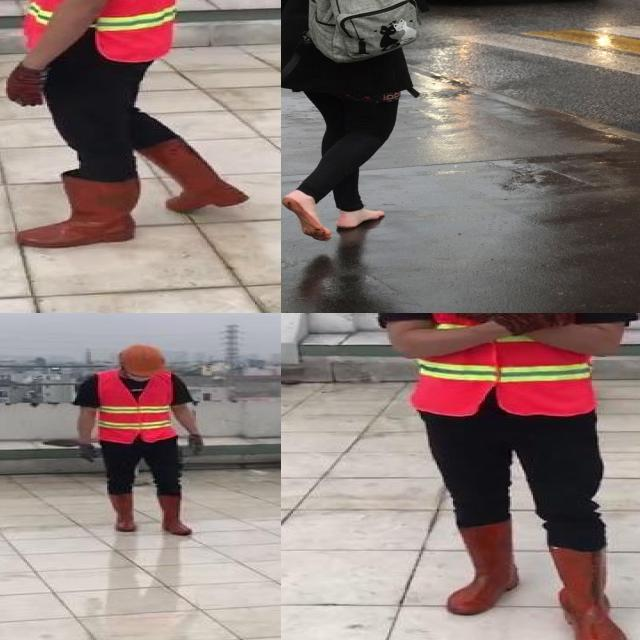Barefoots: (282, 190, 331, 241), (336, 209, 384, 229)
boots: (13, 175, 138, 249), (136, 141, 250, 210), (547, 546, 630, 640), (444, 522, 521, 618), (155, 492, 191, 535), (107, 491, 137, 534)
hand_glove: (8, 66, 49, 106), (506, 313, 584, 331), (75, 440, 96, 464), (183, 435, 203, 458)
head_helmet: (116, 343, 166, 378)
person: (365, 313, 640, 640), (0, 0, 274, 252), (69, 339, 213, 541)
vest: (401, 313, 595, 416), (27, 0, 180, 60), (93, 371, 178, 443)
